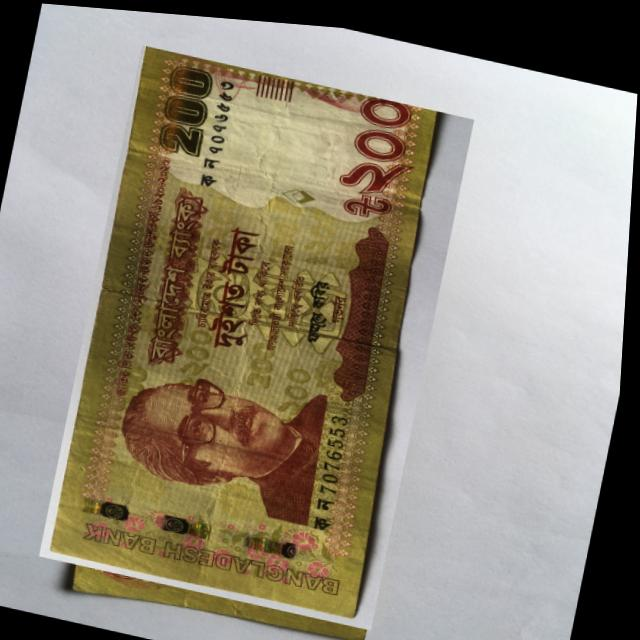Taka: (43, 38, 477, 628)
